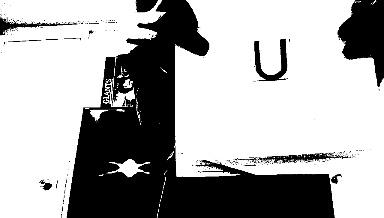U: (244, 36, 292, 78)
